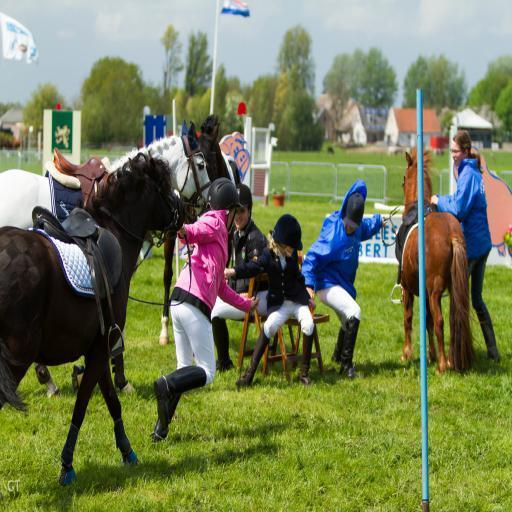horse: (0, 148, 187, 489), (0, 118, 211, 400), (400, 144, 488, 374), (159, 113, 243, 349), (190, 118, 242, 266), (158, 229, 178, 346)
